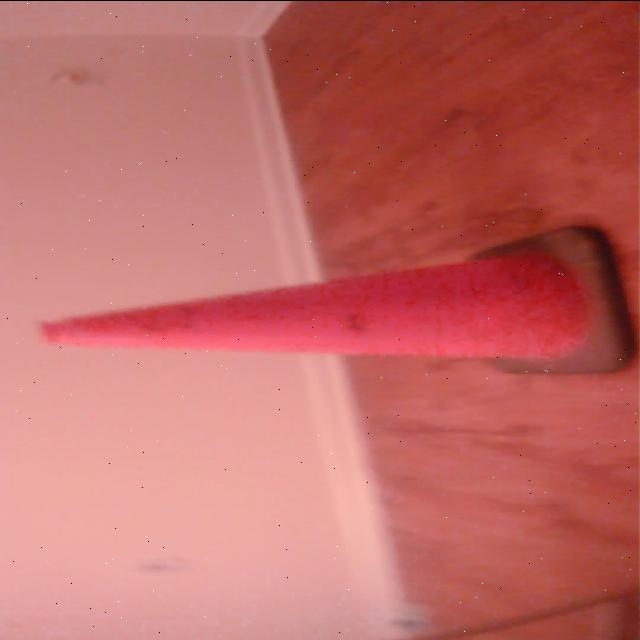traffic cone: (29, 219, 640, 385)
